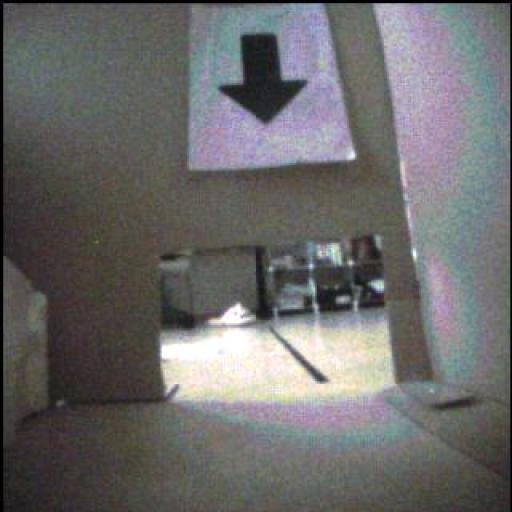arrow: (220, 35, 308, 124)
